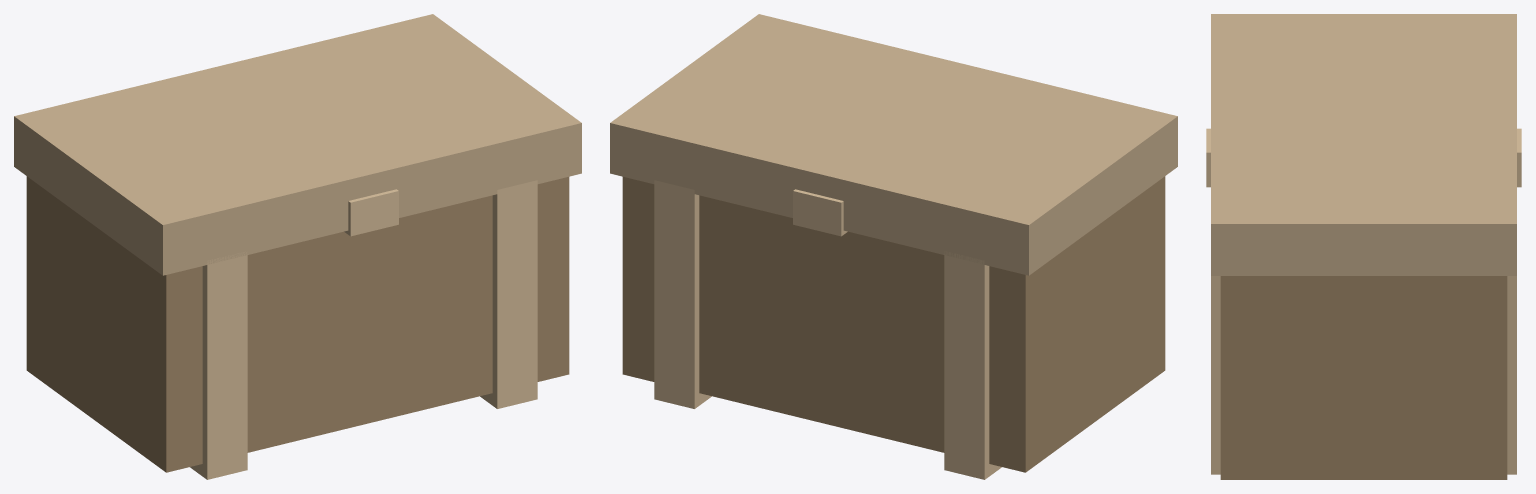
File: 18-Casas_decor_baul_madera.glb
The picture shows the model from 3 angles, left to right: view 1: azimuth 30°, elevation 25°; view 2: azimuth 150°, elevation 25°; view 3: azimuth 270°, elevation 25°; orthographic projection. The views are drawn at different scales.
Visible parts, largest first — view 1: SM_Baul_Cuerpo, SM_Baul_Banda.001, SM_Baul_Banda; view 2: SM_Baul_Cuerpo, SM_Baul_Banda.001, SM_Baul_Banda; view 3: SM_Baul_Cuerpo, SM_Baul_Banda.001.
Part boxes in pixels (bbox=[...]): SM_Baul_Cuerpo: bbox=[14, 14, 581, 472]; SM_Baul_Banda.001: bbox=[480, 180, 537, 408]; SM_Baul_Banda: bbox=[190, 251, 247, 479]; SM_Baul_Cuerpo: bbox=[610, 14, 1177, 472]; SM_Baul_Banda.001: bbox=[654, 180, 711, 408]; SM_Baul_Banda: bbox=[944, 251, 1001, 479]; SM_Baul_Cuerpo: bbox=[1206, 14, 1521, 479]; SM_Baul_Banda.001: bbox=[1211, 276, 1516, 474].
Size of the model in its own units: 0.52 by 0.315 by 0.33.
